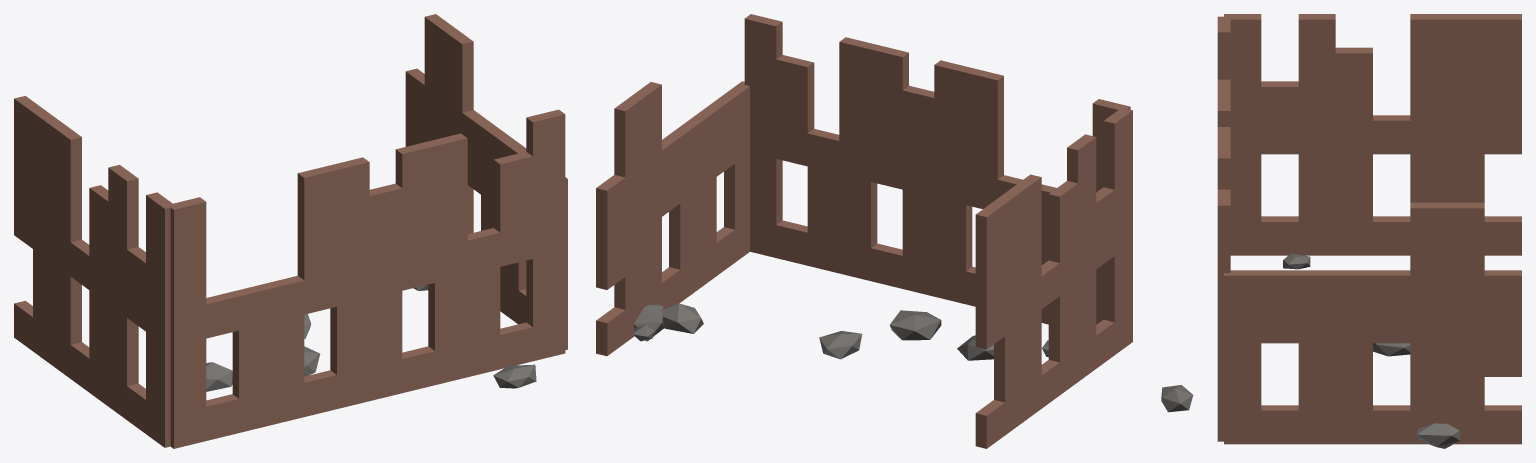
The model's file is prop_ruin_b.glb.
3 renders of one model, left to right at view 1: azimuth 30°, elevation 25°; view 2: azimuth 150°, elevation 25°; view 3: azimuth 270°, elevation 25°, orthographic. The views are drawn at different scales.
Parts seen in each view (by area): view 1: prop_ruin_b; view 2: prop_ruin_b; view 3: prop_ruin_b.
Part boxes in pixels (x1,y1,x2,y2): prop_ruin_b: [14, 14, 567, 448]; prop_ruin_b: [596, 14, 1132, 448]; prop_ruin_b: [1161, 14, 1521, 448].
Size of the model in its own units: 12.75 by 7.24 by 9.69.
